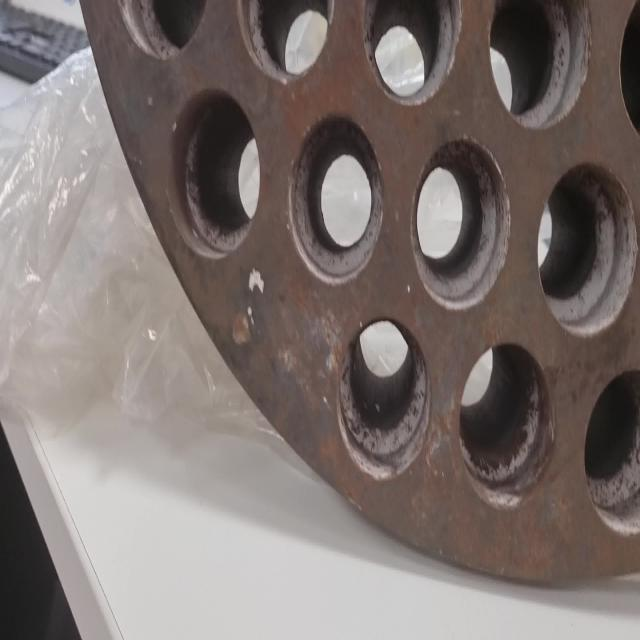Hole: (536, 159, 638, 338), (411, 136, 510, 312), (458, 339, 556, 510), (288, 113, 385, 285), (170, 87, 262, 259), (338, 315, 430, 481), (487, 0, 590, 131), (361, 0, 461, 106), (582, 367, 640, 538)
